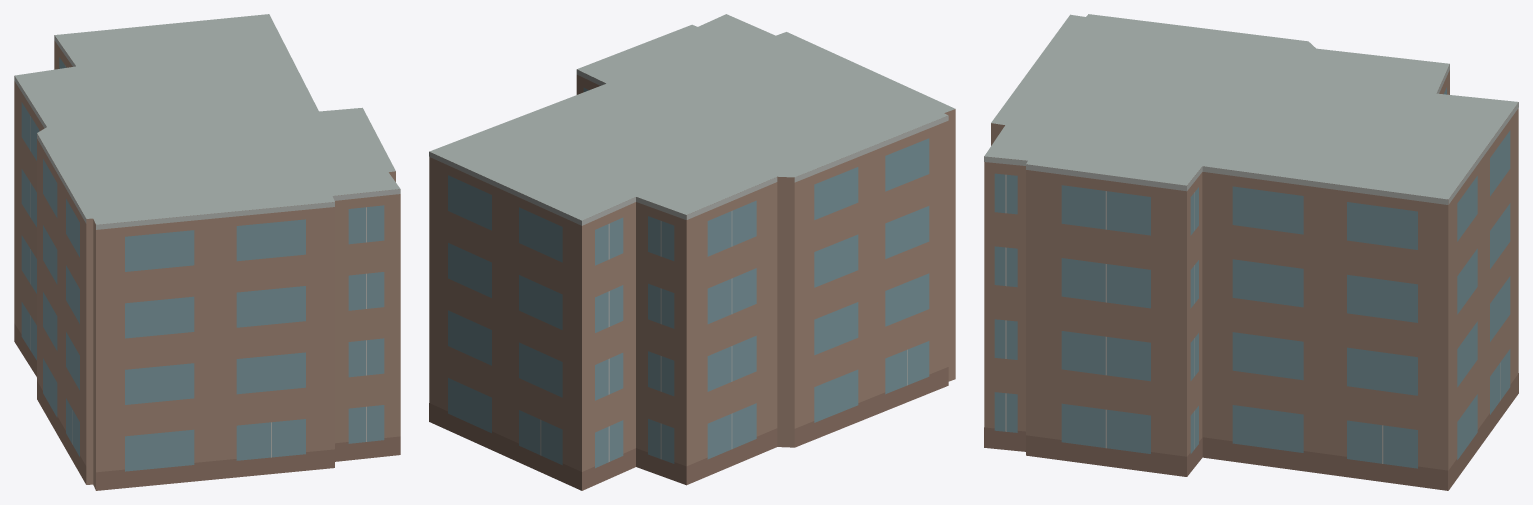
The model's file is survey-upis-32887078.glb.
3 views of the same model, side by side, from view 1: azimuth 30°, elevation 25°; view 2: azimuth 150°, elevation 25°; view 3: azimuth 270°, elevation 25° (orthographic). The views are drawn at different scales.
Visible parts, largest first — view 1: survey-upis-32887078.tmp; view 2: survey-upis-32887078.tmp; view 3: survey-upis-32887078.tmp.
Part boxes in pixels (x1,y1,x2,y2): survey-upis-32887078.tmp: (14, 14, 400, 490); survey-upis-32887078.tmp: (429, 14, 955, 490); survey-upis-32887078.tmp: (984, 14, 1518, 490).
Size of the model in its own units: 17.35 by 12.7 by 21.13.
